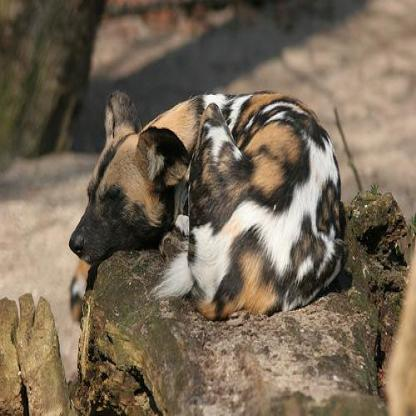African_hunting_dog: (65, 85, 349, 321)
